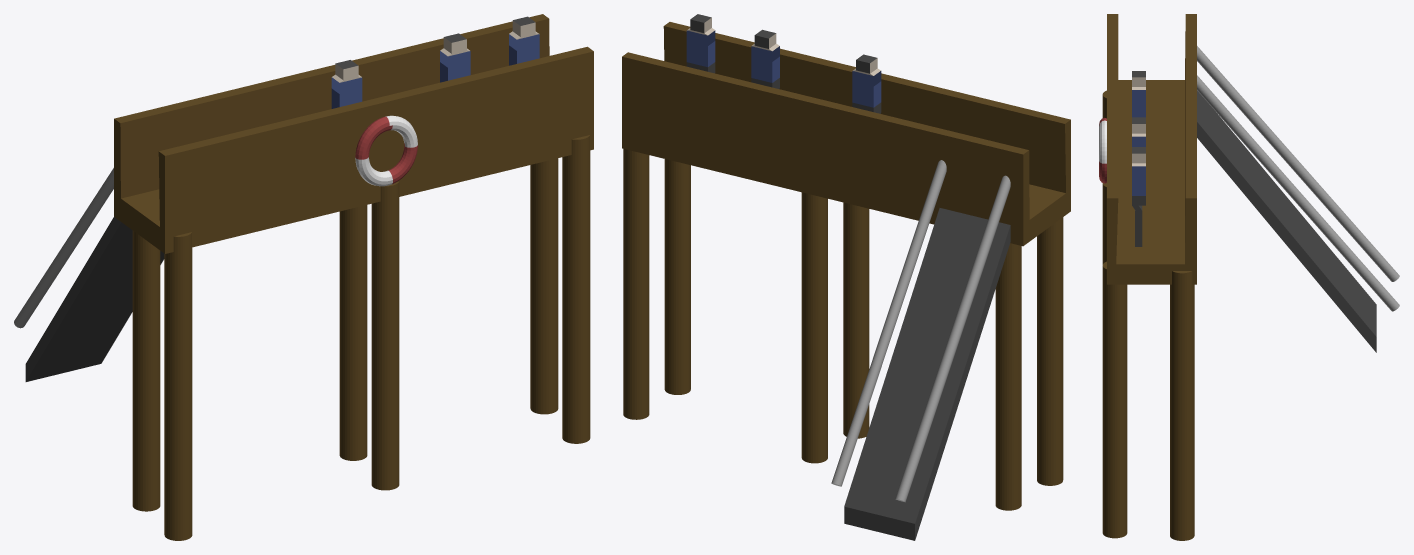
The model's file is bridge.dae.
3 views of the same model, side by side, from view 1: azimuth 30°, elevation 25°; view 2: azimuth 150°, elevation 25°; view 3: azimuth 270°, elevation 25° (orthographic). The views are drawn at different scales.
Visible parts, largest first — view 1: Cube_677, Cube_678, Cylinder_239, Cylinder_235, Cylinder_238, Cylinder_237, Cylinder_236, Cylinder_240, Torus_004, Cylinder_242, Plane_150_002, Plane_150_001 (+1 smaller); view 2: Cube_677, Cube_678, Cylinder_240, Cylinder_236, Cylinder_238, Cylinder_237, Cylinder_235, Cylinder_239, Cylinder_242, Cylinder_241, Plane_150_002, Plane_150_003 (+1 smaller); view 3: Cube_677, Cube_678, Cylinder_235, Cylinder_236, Cylinder_241, Cylinder_242, Plane_150_003, Plane_150_002, Torus_004, Plane_150_001, Cylinder_239.
Boxes of the visible parts, box(x1,y1,x2,y2) form: Cube_677: box(114, 14, 593, 253); Cube_678: box(25, 217, 164, 381); Cylinder_239: box(371, 181, 399, 490); Cylinder_235: box(562, 135, 590, 443); Cylinder_238: box(164, 232, 192, 540); Cylinder_237: box(132, 230, 160, 511); Cylinder_236: box(530, 158, 558, 414); Cylinder_240: box(339, 205, 367, 460); Torus_004: box(355, 115, 417, 186); Cylinder_242: box(14, 168, 113, 328); Plane_150_002: box(331, 60, 362, 108); Plane_150_001: box(440, 33, 470, 82); Cube_677: box(622, 22, 1070, 246); Cube_678: box(844, 208, 1010, 540); Cylinder_240: box(801, 192, 827, 463); Cylinder_236: box(623, 149, 649, 419); Cylinder_238: box(1037, 217, 1063, 485); Cylinder_237: box(995, 243, 1021, 510); Cylinder_235: box(664, 159, 690, 394); Cylinder_239: box(843, 202, 869, 438); Cylinder_242: box(895, 175, 1010, 502); Cylinder_241: box(831, 160, 946, 486); Plane_150_002: box(852, 54, 881, 113); Plane_150_003: box(686, 14, 715, 73); Cube_677: box(1107, 14, 1196, 284); Cube_678: box(1197, 91, 1376, 352); Cylinder_235: box(1102, 261, 1127, 538); Cylinder_236: box(1170, 271, 1194, 540); Cylinder_241: box(1197, 75, 1399, 311); Cylinder_242: box(1197, 46, 1399, 281); Plane_150_003: box(1132, 147, 1145, 246); Plane_150_002: box(1132, 71, 1145, 117); Torus_004: box(1099, 118, 1106, 183); Plane_150_001: box(1132, 117, 1145, 146); Cylinder_239: box(1102, 183, 1106, 264).
Bounding box in the file's own units: 1.94 × 1.32 × 1.77.
